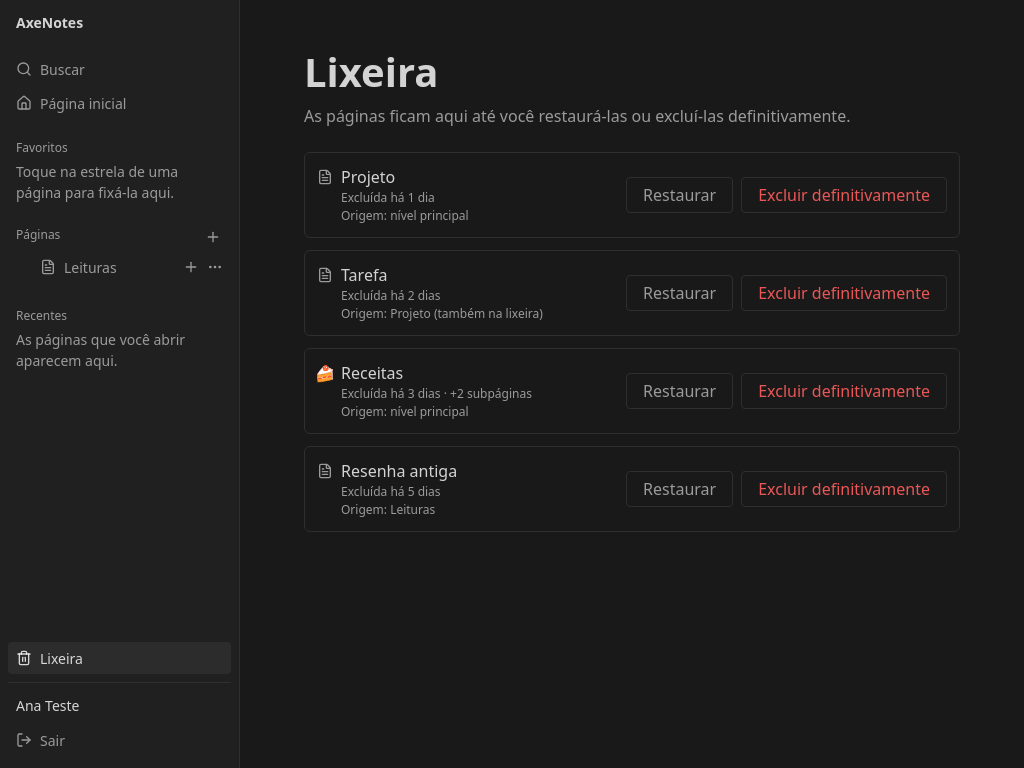
Test: restaurar › explains that the parent page is still in the trash and keeps the row
What coordinates should you click on to do the following:
click the button with aria-label "Restaurar Tarefa"
I would click on:
 (680, 293)
Its box is [626,275,733,311].
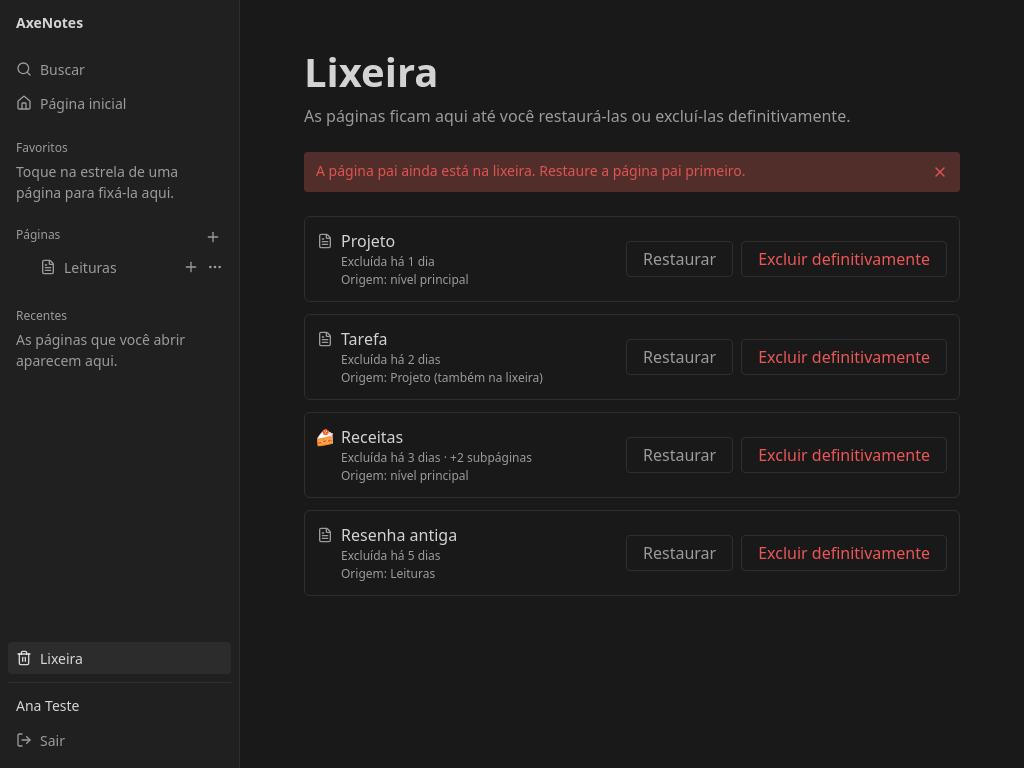
Expected: the list item that starts with "Tarefa" is shown, [304,314,960,400]
Expected: the message reads "A página pai ainda está na lixeira. Restaure a página pai primeiro.", [316,161,746,180]
